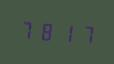eight: (37, 18, 55, 43)
one: (56, 20, 74, 45)
seven: (18, 17, 36, 42), (75, 21, 93, 46)
